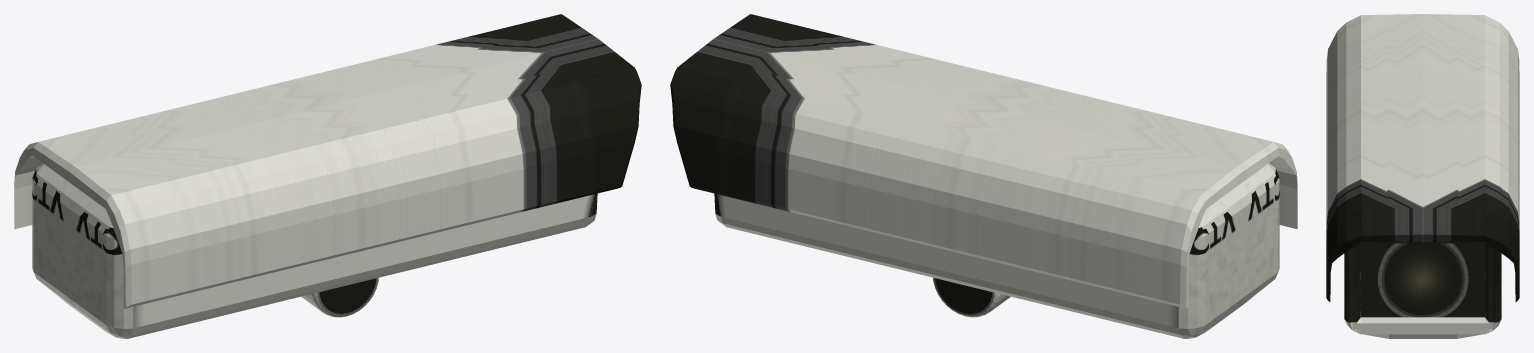
Rendered from cctvtext.fbx.
The picture shows the model from 3 angles, left to right: view 1: azimuth 30°, elevation 25°; view 2: azimuth 150°, elevation 25°; view 3: azimuth 270°, elevation 25°; orthographic projection. The views are drawn at different scales.
Parts seen in each view (by area): view 1: Cube; view 2: Cube; view 3: Cube.
Boxes of the visible parts, bbox=[...] form: Cube: bbox=[14, 14, 641, 338]; Cube: bbox=[670, 14, 1297, 338]; Cube: bbox=[1326, 14, 1519, 338].
Bounding box in the file's own units: 7858 × 2810 × 2916.
1 material, 1 textured.
